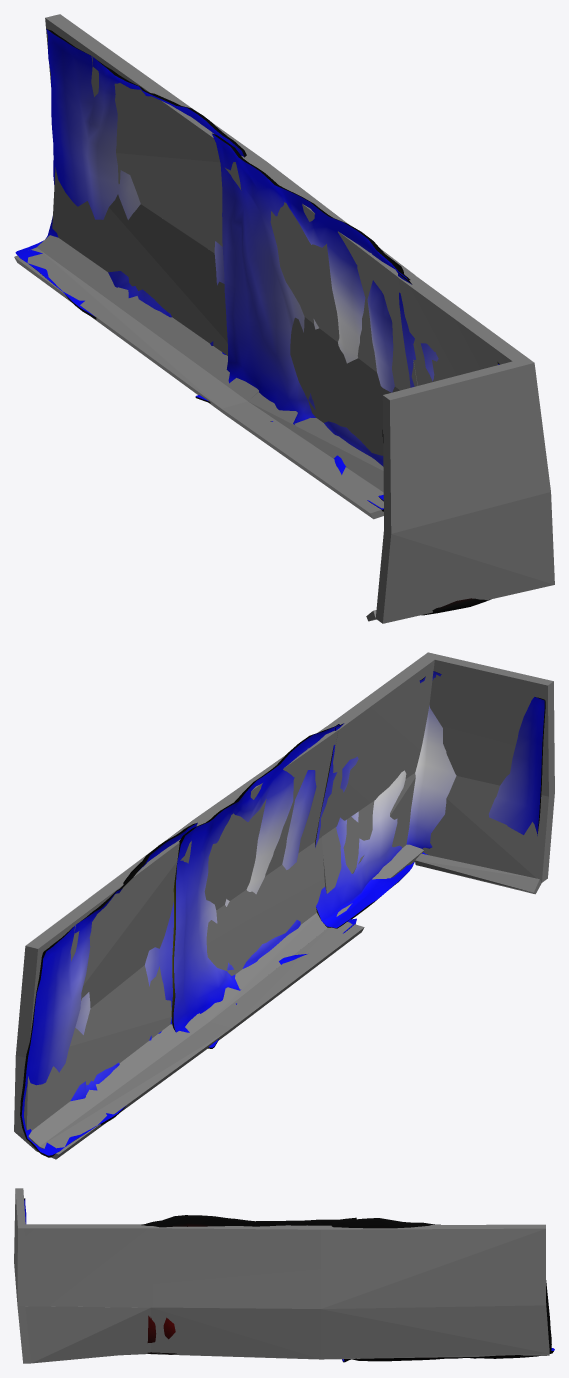
File: Tent_06_Mesh.fbx
3 renders of one model, top to bottom at view 1: azimuth 30°, elevation 25°; view 2: azimuth 150°, elevation 25°; view 3: azimuth 270°, elevation 25°, orthographic. The views are drawn at different scales.
Visible parts, largest first — view 1: Tent_06_LOD0, Tent_06_COL_07, Tent_06_COL_08, Tent_06_COL_01, Tent_06_COL_03, Tent_06_COL_00, Tent_06_COL_02, Tent_06_COL_13, Tent_06_COL_10, Tent_06_COL_04, Tent_06_COL_05, Tent_06_COL_09; view 2: Tent_06_LOD0, Tent_06_COL_01, Tent_06_COL_07, Tent_06_COL_13, Tent_06_COL_03, Tent_06_COL_08, Tent_06_COL_02, Tent_06_COL_00, Tent_06_COL_10, Tent_06_COL_04, Tent_06_COL_05, Tent_06_COL_11 (+3 smaller); view 3: Tent_06_COL_01, Tent_06_COL_00, Tent_06_COL_03, Tent_06_COL_13, Tent_06_COL_02, Tent_06_COL_11, Tent_06_LOD0, Tent_06_COL_07, Tent_06_COL_08, Tent_06_COL_04, Tent_06_COL_09.
Boxes of the visible parts, x1,y1,x2,y2 form: Tent_06_LOD0: [15, 29, 499, 615]; Tent_06_COL_07: [382, 357, 550, 533]; Tent_06_COL_08: [375, 492, 554, 623]; Tent_06_COL_01: [45, 14, 266, 253]; Tent_06_COL_03: [52, 167, 227, 355]; Tent_06_COL_00: [253, 161, 417, 390]; Tent_06_COL_02: [290, 317, 399, 455]; Tent_06_COL_13: [398, 275, 527, 385]; Tent_06_COL_10: [14, 247, 247, 414]; Tent_06_COL_04: [37, 235, 258, 400]; Tent_06_COL_05: [222, 401, 383, 519]; Tent_06_COL_09: [248, 392, 383, 492]; Tent_06_LOD0: [20, 671, 545, 1157]; Tent_06_COL_01: [16, 820, 204, 1057]; Tent_06_COL_07: [422, 652, 554, 796]; Tent_06_COL_13: [322, 656, 434, 835]; Tent_06_COL_03: [14, 965, 171, 1133]; Tent_06_COL_08: [422, 776, 554, 882]; Tent_06_COL_02: [206, 837, 324, 975]; Tent_06_COL_00: [193, 727, 338, 910]; Tent_06_COL_10: [36, 1022, 231, 1159]; Tent_06_COL_04: [15, 1013, 208, 1150]; Tent_06_COL_05: [209, 922, 364, 1032]; Tent_06_COL_11: [322, 773, 415, 893]; Tent_06_COL_01: [321, 1224, 545, 1308]; Tent_06_COL_00: [150, 1225, 320, 1308]; Tent_06_COL_03: [321, 1303, 549, 1359]; Tent_06_COL_13: [24, 1224, 152, 1307]; Tent_06_COL_02: [150, 1307, 320, 1359]; Tent_06_COL_11: [25, 1306, 150, 1363]; Tent_06_LOD0: [24, 1198, 554, 1362]; Tent_06_COL_07: [14, 1188, 25, 1306]; Tent_06_COL_08: [17, 1306, 30, 1363]; Tent_06_COL_04: [321, 1353, 549, 1359]; Tent_06_COL_09: [151, 1353, 320, 1359].
Bounding box in the file's own units: 177 × 860 × 255.
